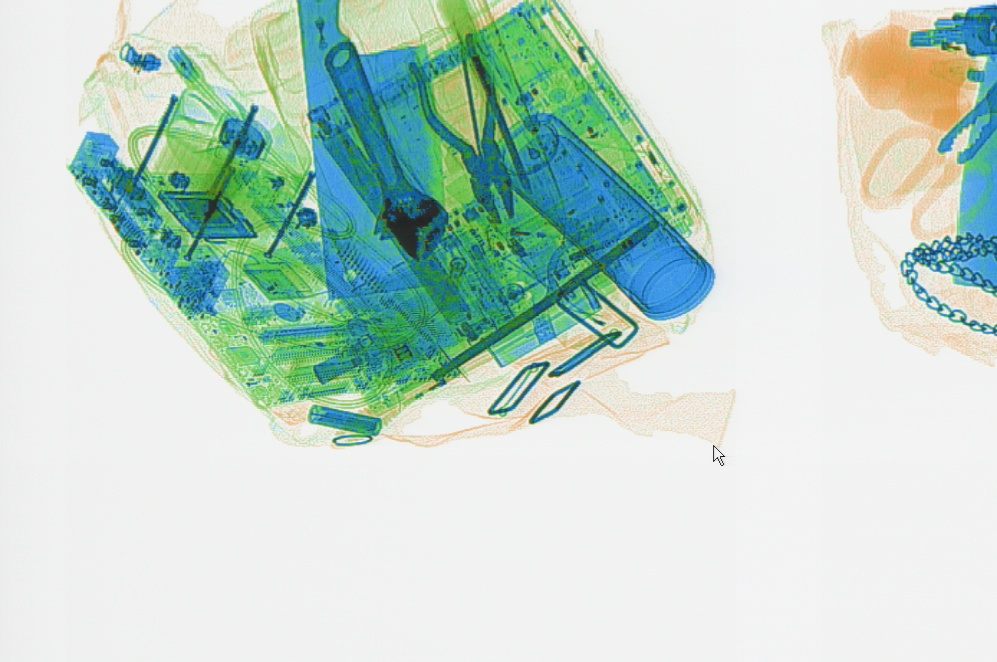knife: (293, 1, 447, 300)
lighter: (349, 360, 461, 424), (457, 213, 579, 242)
scissors: (859, 72, 995, 242)
